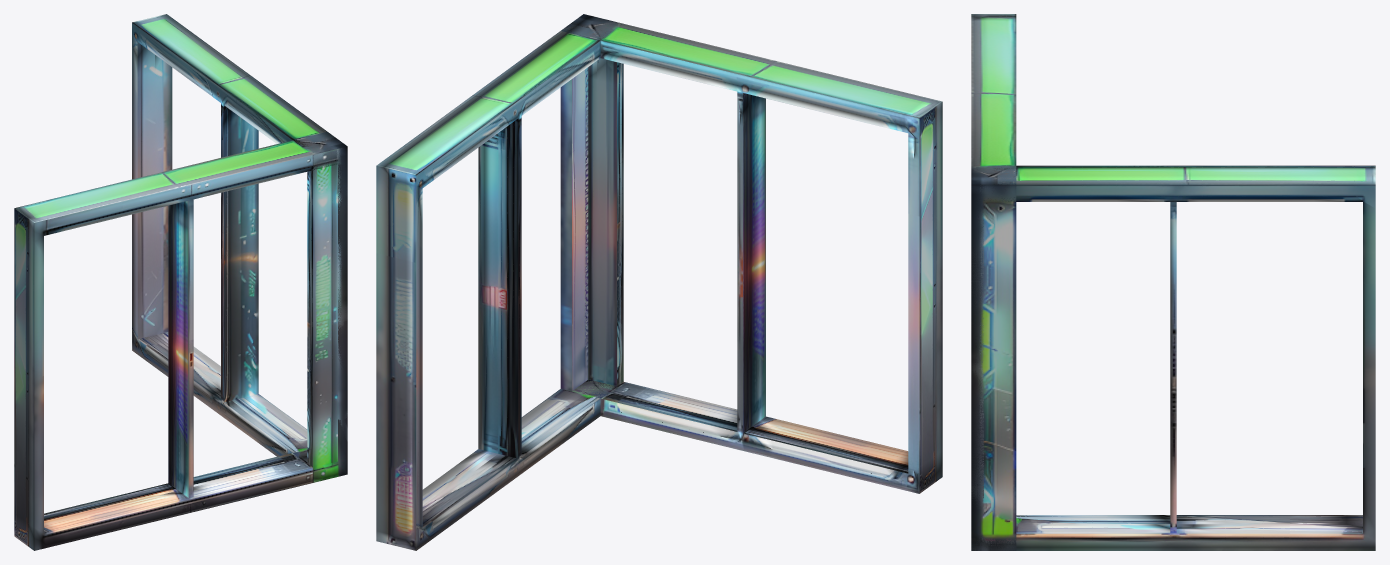
The model's file is commercialBasicWindowedWall2.glb.
3 renders of one model, left to right at view 1: azimuth 30°, elevation 25°; view 2: azimuth 150°, elevation 25°; view 3: azimuth 270°, elevation 25°, orthographic. The views are drawn at different scales.
Parts seen in each view (by area): view 1: commercialBasicWindowedWall2; view 2: commercialBasicWindowedWall2; view 3: commercialBasicWindowedWall2.
Boxes of the visible parts, left/top/right/bottom form: commercialBasicWindowedWall2: left=14, top=14, right=347, bottom=550; commercialBasicWindowedWall2: left=376, top=14, right=942, bottom=550; commercialBasicWindowedWall2: left=971, top=14, right=1375, bottom=550.
Bounding box in the file's own units: 1 × 1 × 1.
Materials: 1 (1 with a texture image).
